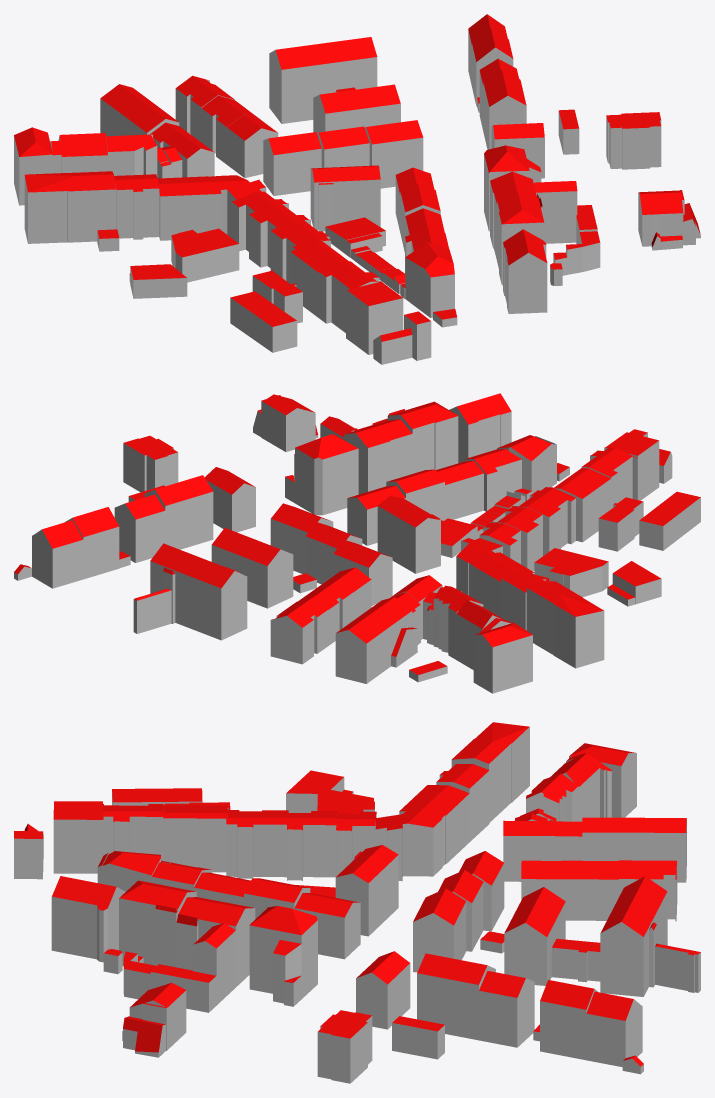
The picture shows the model from 3 angles, top to bottom: view 1: azimuth 30°, elevation 25°; view 2: azimuth 150°, elevation 25°; view 3: azimuth 270°, elevation 25°; orthographic projection. The views are drawn at different scales.
Size of the model in its own units: 210 by 25.11 by 200.
